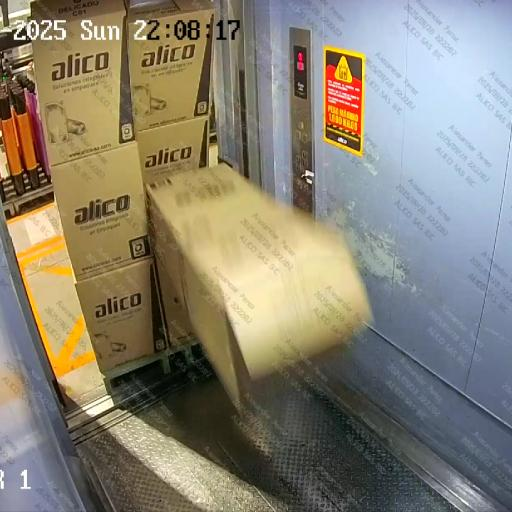Caja caida: (70, 116, 406, 426)
